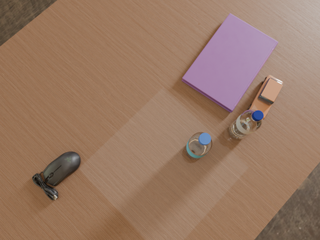book: (182, 13, 278, 112)
bottle: (229, 110, 263, 139), (185, 132, 212, 159)
mouse: (32, 152, 80, 200)
toy_car: (248, 75, 283, 119)
